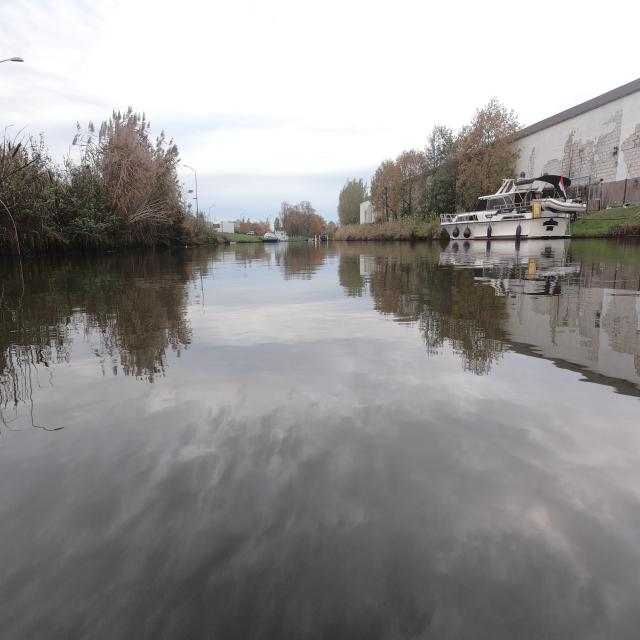boat: (440, 175, 585, 241), (263, 230, 287, 242)
grass: (571, 205, 639, 234), (224, 233, 262, 242)
reed: (0, 107, 196, 254), (454, 97, 518, 210), (370, 149, 427, 221), (425, 124, 457, 214), (333, 216, 441, 239)
sky: (1, 1, 637, 219)
water: (1, 239, 639, 639)
